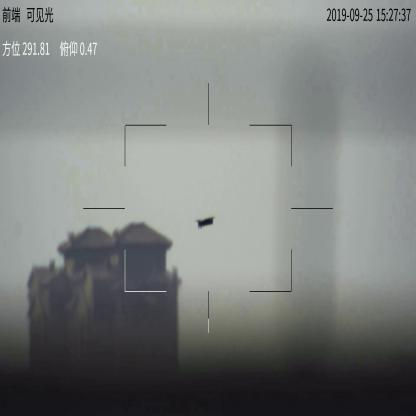uav: (197, 216, 215, 228)
